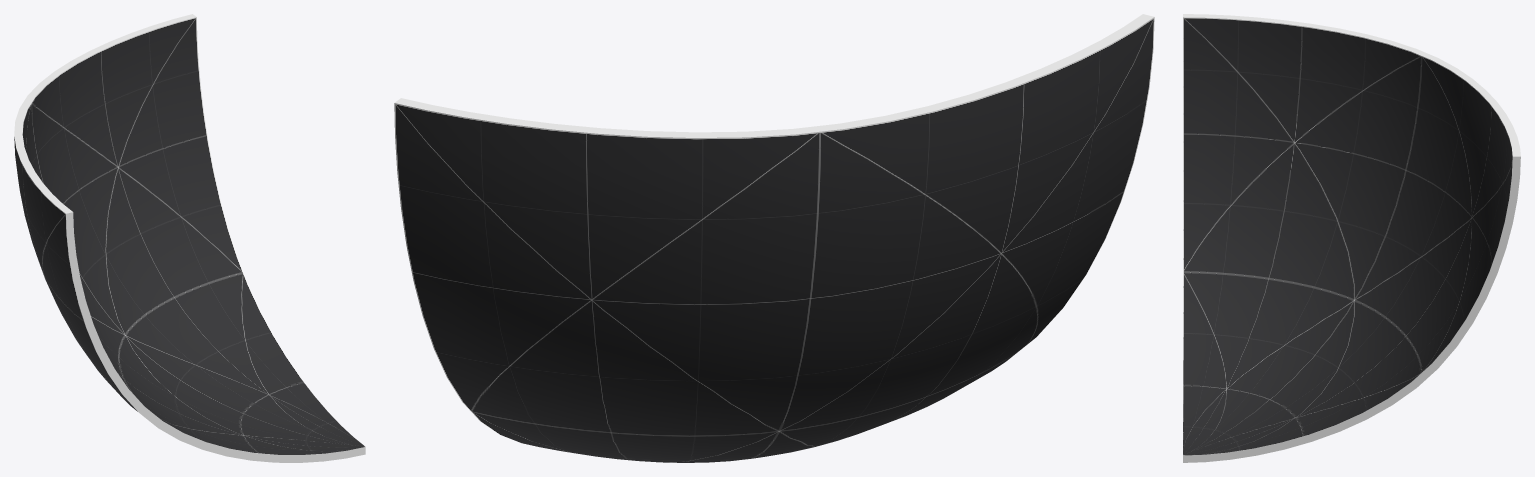
The model's file is TransitionFullMediumBend.glb.
The picture shows the model from 3 angles, left to right: view 1: azimuth 30°, elevation 25°; view 2: azimuth 150°, elevation 25°; view 3: azimuth 270°, elevation 25°; orthographic projection. The views are drawn at different scales.
Visible parts, largest first — view 1: TransitionFullMediumBend; view 2: TransitionFullMediumBend; view 3: TransitionFullMediumBend.
Boxes of the visible parts, x1,y1,x2,y2 form: TransitionFullMediumBend: (14,14,365,462); TransitionFullMediumBend: (394,14,1154,462); TransitionFullMediumBend: (1183,14,1520,462).
Size of the model in its own units: 20.5 by 20.5 by 20.5.
1 material, 1 textured.
